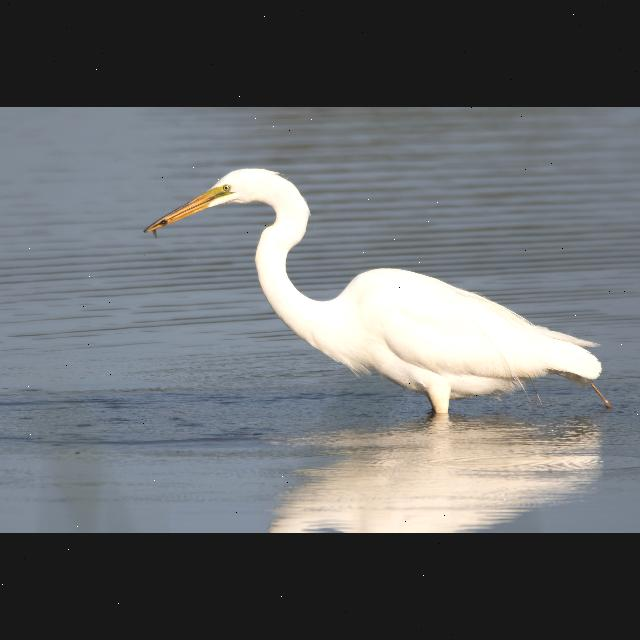egret: (138, 156, 614, 430)
